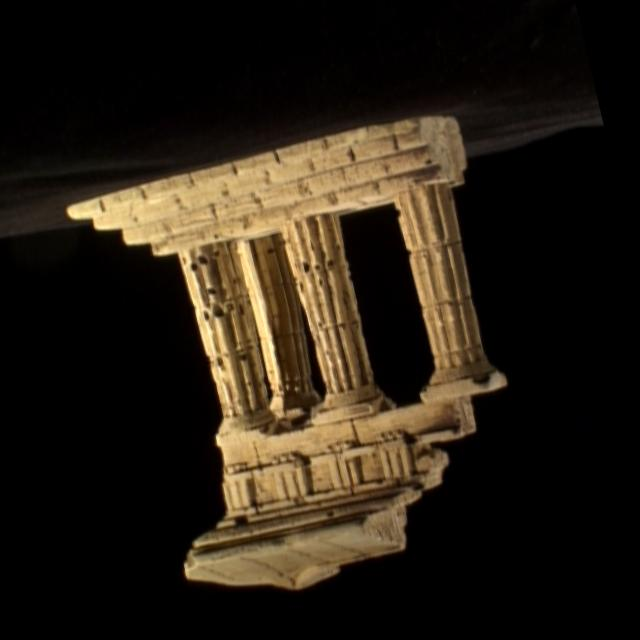Instance-Segmentation: (66, 116, 504, 588)
